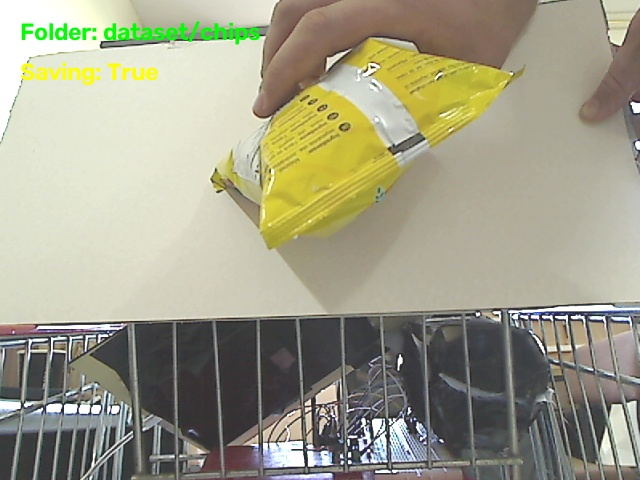chips: (211, 39, 519, 247)
